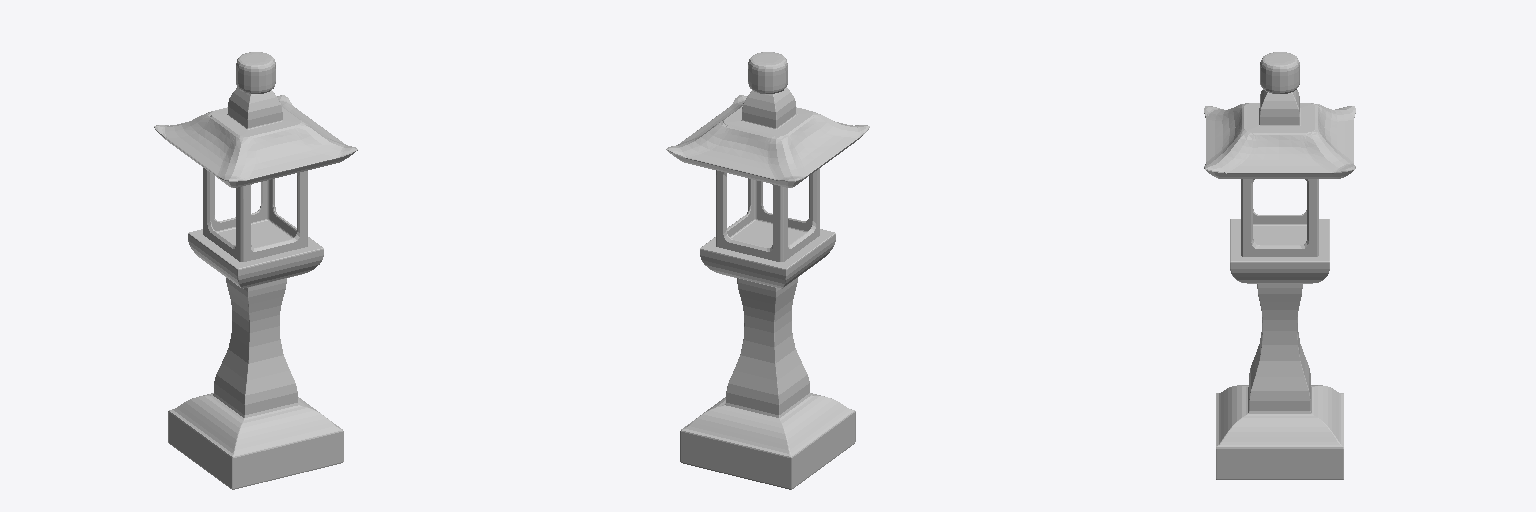
Rendered from Lantern_high.obj.
3 views of the same model, side by side, from view 1: azimuth 30°, elevation 25°; view 2: azimuth 150°, elevation 25°; view 3: azimuth 270°, elevation 25° (orthographic).
Parts seen in each view (by area): view 1: lantern_high; view 2: lantern_high; view 3: lantern_high.
Part boxes in pixels (x1,y1,x2,y2): lantern_high: (154, 52, 357, 489); lantern_high: (666, 52, 869, 489); lantern_high: (1204, 52, 1355, 479).
Bounding box in the file's own units: 2.17 × 6.19 × 2.17.